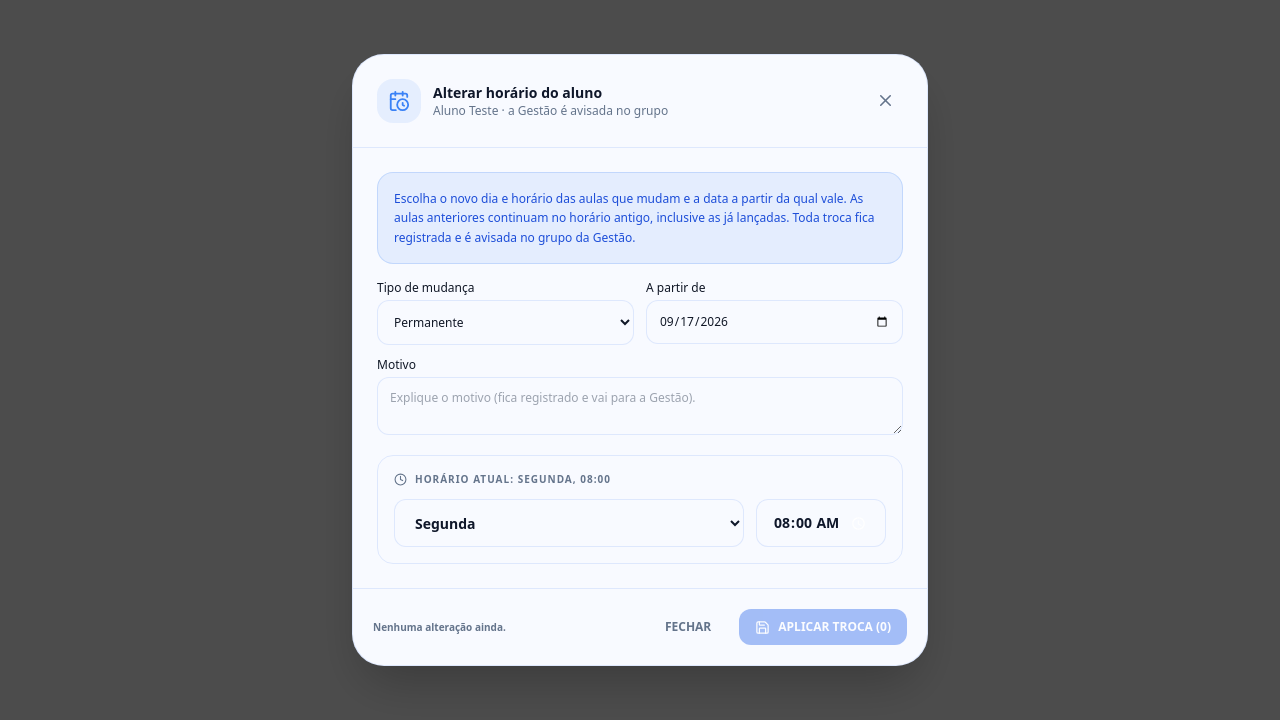
professor altera o horário do próprio aluno › não aplica sem motivo e mostra o choque de agenda sem anunciar mudança
Step 1. Select "Terça" in the dropdown named "Dia proposto para Segunda 08:00" → (569, 523), box left=394, top=499, right=744, bottom=547
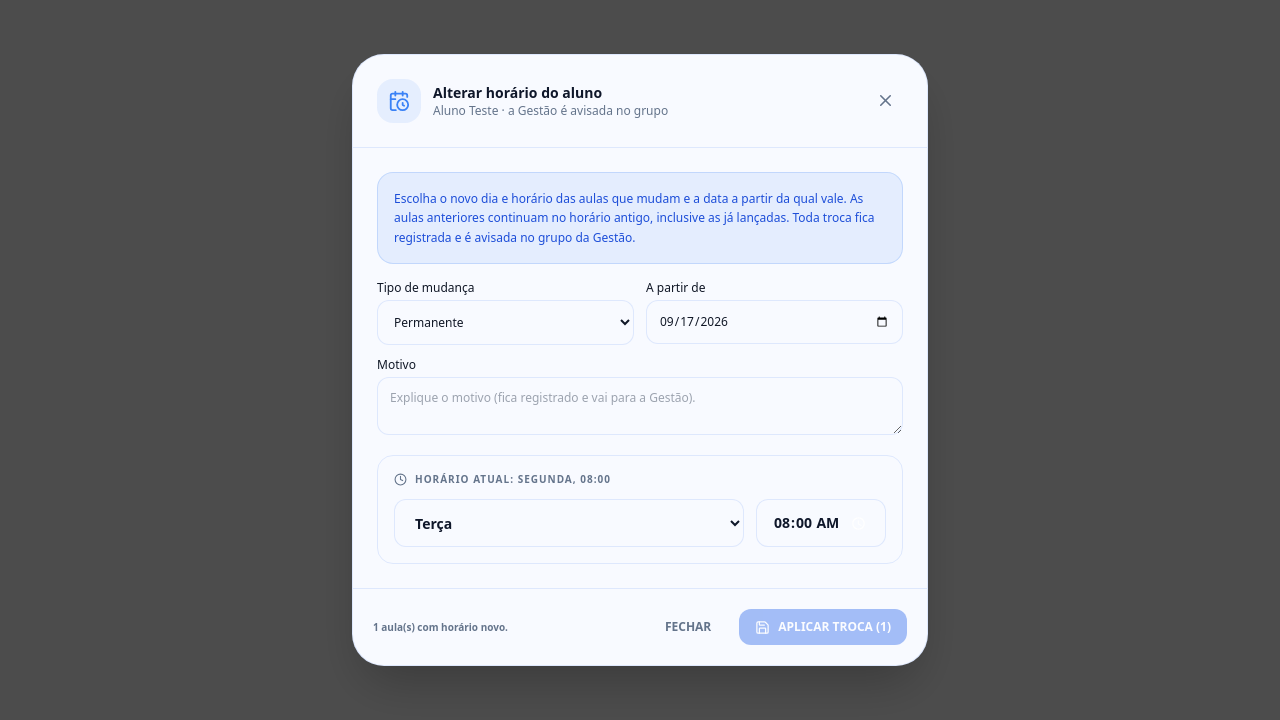
Expected: the button "Aplicar troca (1)" is disabled, left=739, top=609, right=907, bottom=645
Step 2. Type "Motivo suficientemente explicado." into the text box with placeholder "Explique o motivo (fica registrado e vai para a Gestão)." → (640, 406), box left=377, top=377, right=903, bottom=435
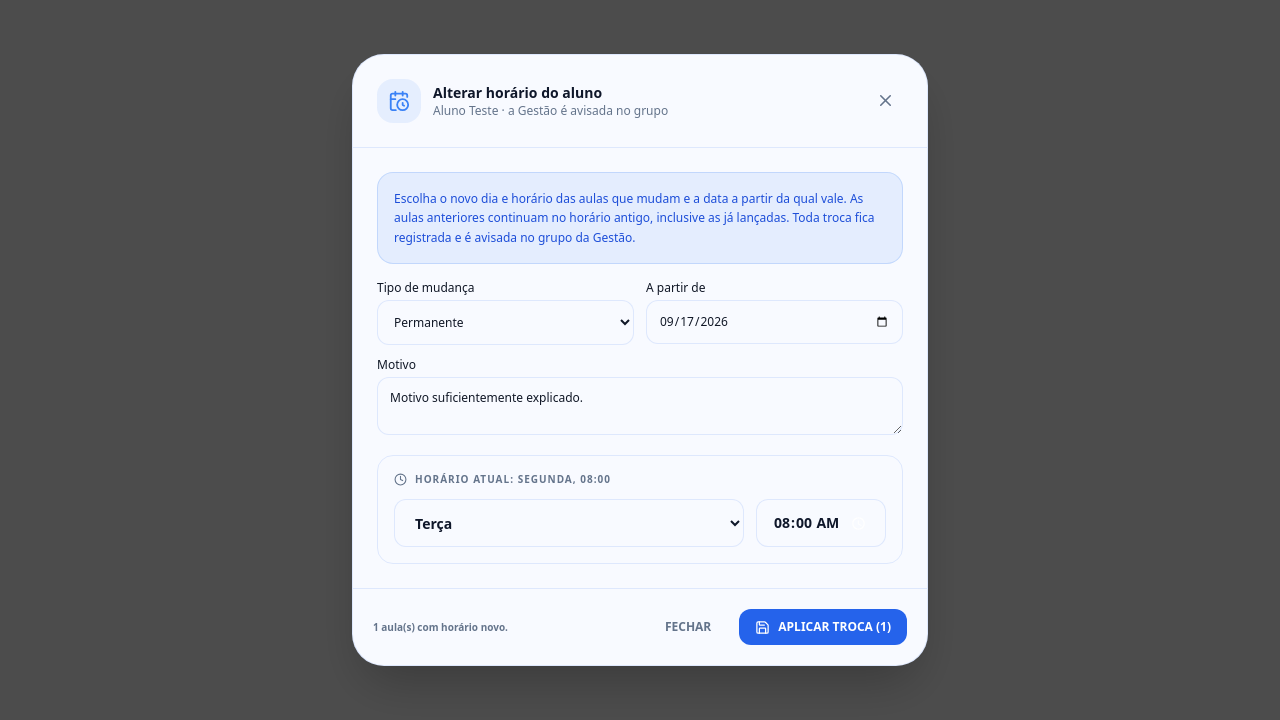
Step 3. Click the button "Aplicar troca (1)" → (823, 627), box left=739, top=609, right=907, bottom=645
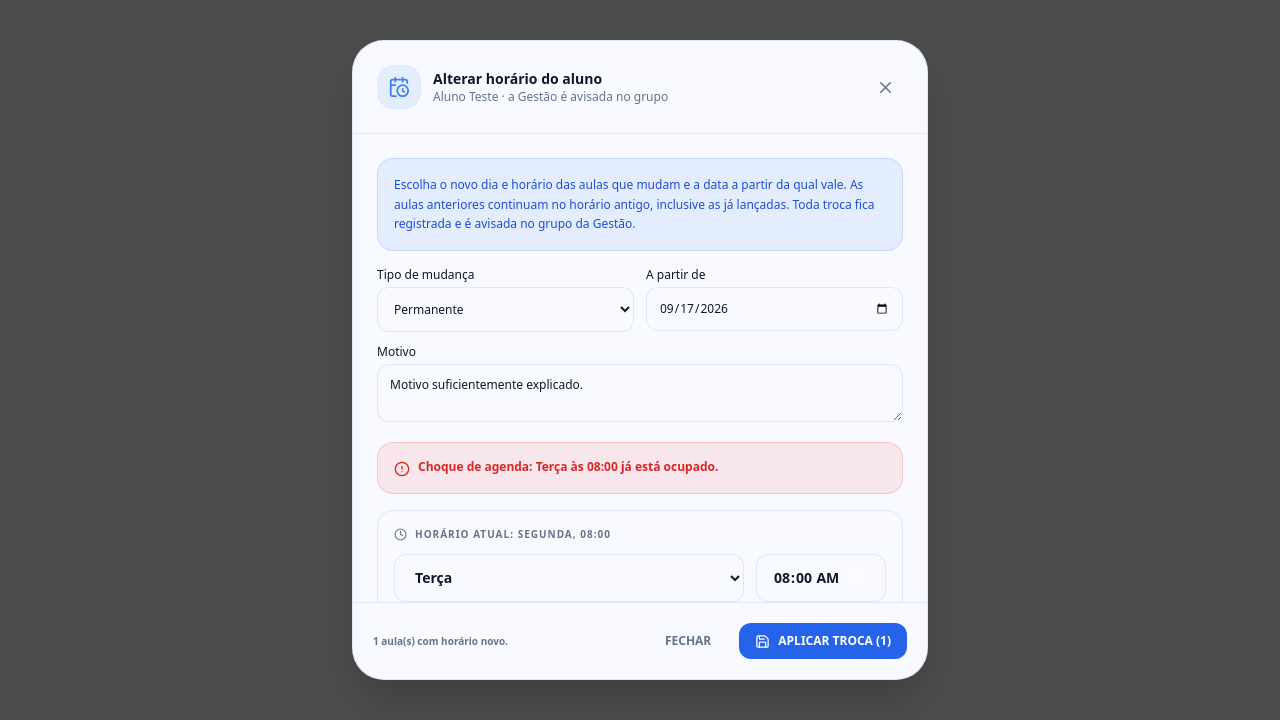
Now the text "Choque de agenda: Terça às 08:00 já está ocupado." is shown, box left=377, top=442, right=903, bottom=494
